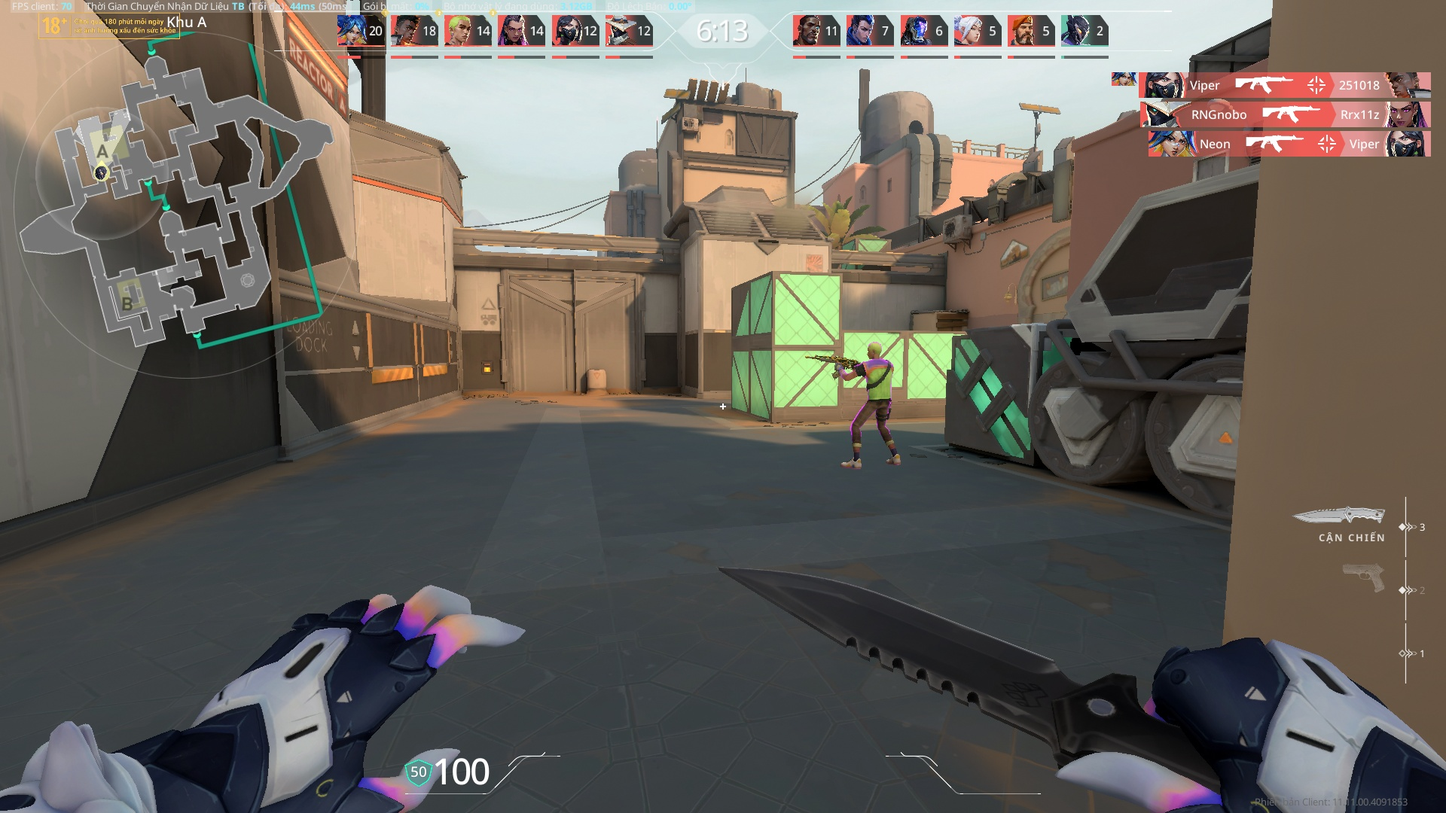body: (861, 357, 898, 403)
head: (866, 341, 885, 359)
